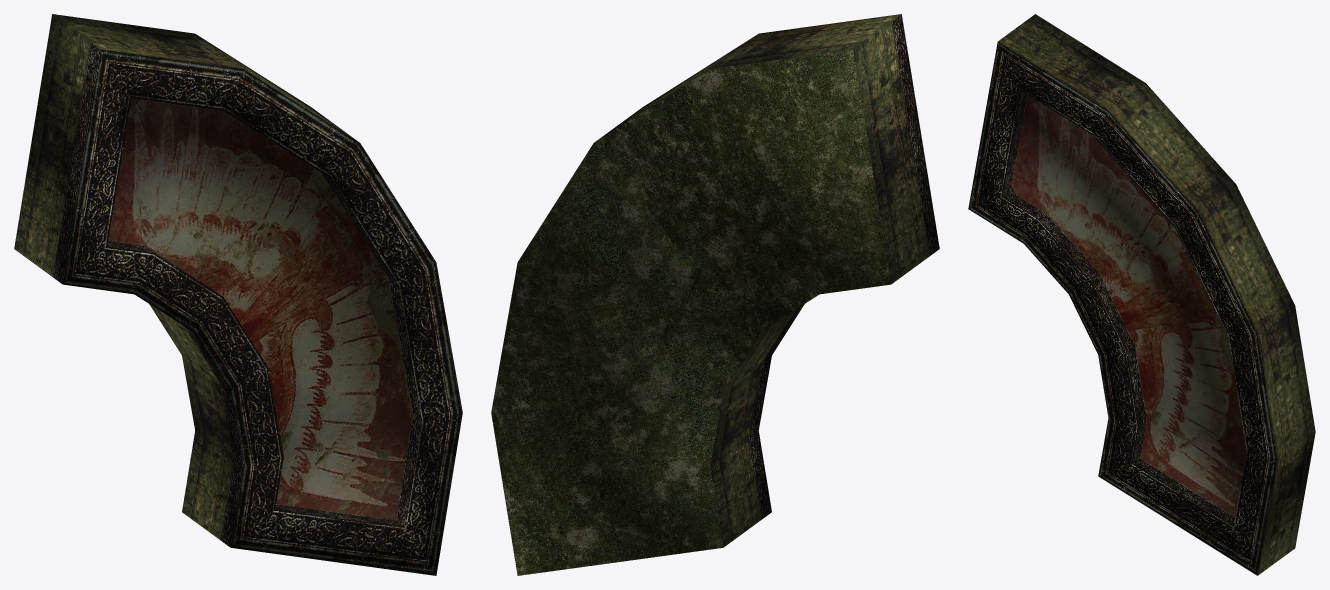
Rendered from EVT_ADDON_NW_TROLLPORTAL_PORTAL_05.glb.
The picture shows the model from 3 angles, left to right: view 1: azimuth 30°, elevation 25°; view 2: azimuth 150°, elevation 25°; view 3: azimuth 330°, elevation 25°; orthographic projection. The views are drawn at different scales.
Visible parts, largest first — view 1: Mesh; view 2: Mesh; view 3: Mesh.
Part boxes in pixels (left/top/right/bottom): Mesh: left=14, top=14, right=462, bottom=575; Mesh: left=491, top=14, right=939, bottom=575; Mesh: left=968, top=14, right=1315, bottom=575.
Size of the model in its own units: 2.35 by 3.42 by 0.4951.
Materials: 4 (4 with a texture image).
